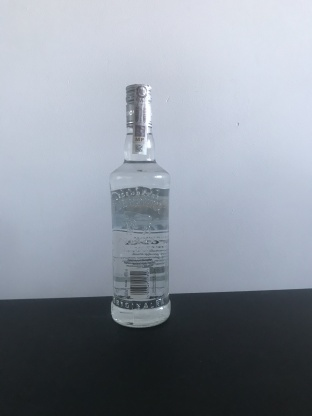nakretka: (123, 79, 154, 130)
